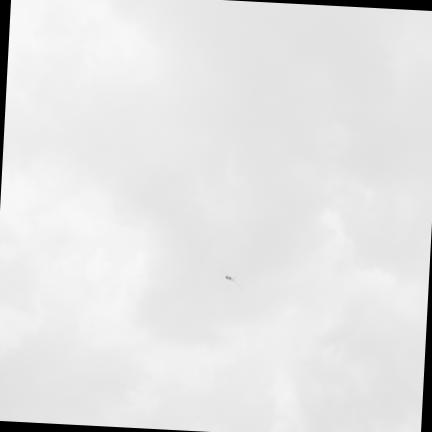Shahed: (219, 269, 243, 291)
